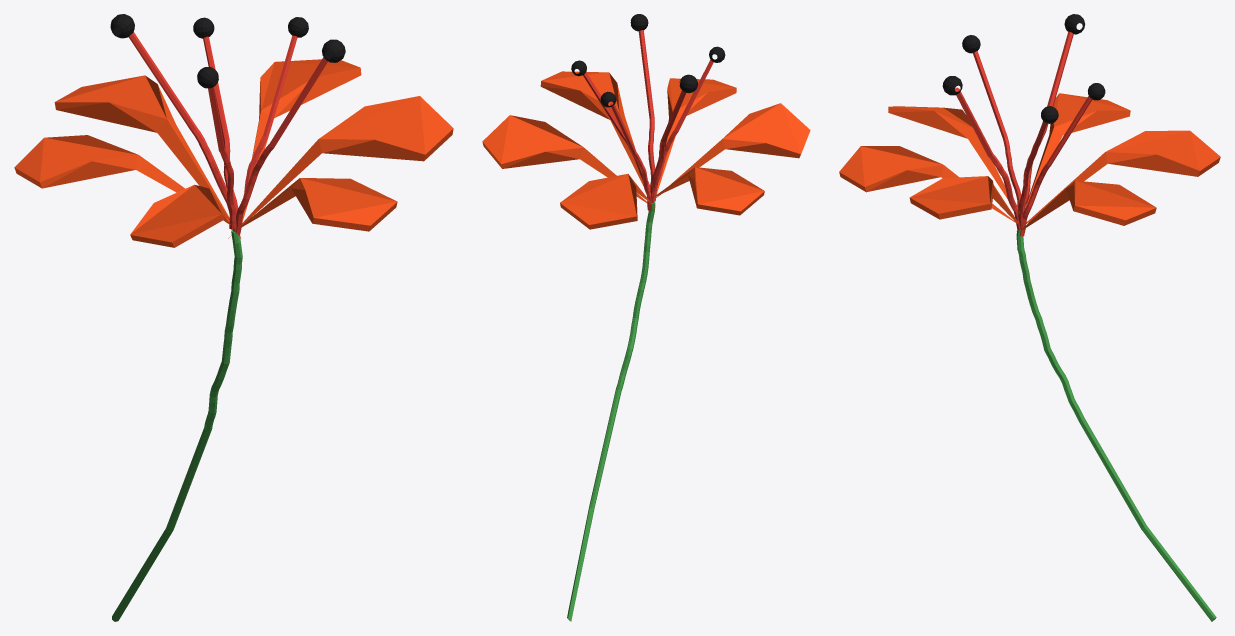
Rendered from plant32.glb.
3 renders of one model, left to right at view 1: azimuth 30°, elevation 25°; view 2: azimuth 150°, elevation 25°; view 3: azimuth 270°, elevation 25°, orthographic. The views are drawn at different scales.
Visible parts, largest first — view 1: group195905935, group804110405, group110160458, group2144015068, group43461017, group1620965756, group862357623, group2016530772, group1581146149, group423755174, group273457477, group723798207; view 2: group862357623, group43461017, group804110405, group110160458, group1620965756, group195905935, group2144015068, group1581146149, group2016530772, group423755174, group723798207, group273457477; view 3: group804110405, group2144015068, group1620965756, group862357623, group195905935, group110160458, group43461017, group1581146149, group423755174, group723798207, group2016530772, group273457477.
Boxes of the visible parts, box(x1,y1,x2,y2) form: group195905935: box(228, 96, 453, 238); group804110405: box(54, 75, 241, 238); group110160458: box(14, 135, 229, 221); group2144015068: box(235, 178, 397, 231); group43461017: box(130, 184, 230, 247); group1620965756: box(112, 229, 242, 621); group862357623: box(242, 59, 361, 221); group2016530772: box(110, 14, 236, 232); group1581146149: box(236, 39, 345, 235); group423755174: box(197, 67, 235, 229); group273457477: box(243, 17, 308, 208); group723798207: box(193, 17, 240, 238); group862357623: box(482, 115, 647, 202); group43461017: box(656, 103, 810, 197); group804110405: box(560, 174, 650, 229); group110160458: box(654, 167, 764, 215); group1620965756: box(567, 202, 655, 621); group195905935: box(540, 71, 654, 208); group2144015068: box(656, 78, 736, 193); group1581146149: box(630, 14, 655, 187); group2016530772: box(650, 74, 697, 202); group423755174: box(651, 46, 725, 201); group723798207: box(600, 91, 651, 210); group273457477: box(571, 60, 650, 190); group804110405: box(1016, 130, 1220, 231); group2144015068: box(839, 146, 1015, 222); group1620965756: box(1016, 230, 1216, 621); group862357623: box(1021, 180, 1156, 229); group195905935: box(909, 176, 1019, 224); group110160458: box(1025, 93, 1130, 208); group43461017: box(888, 106, 1007, 198); group1581146149: box(942, 76, 1021, 230); group423755174: box(962, 35, 1021, 206); group723798207: box(1020, 83, 1105, 236); group2016530772: box(1022, 14, 1085, 212); group273457477: box(1018, 106, 1058, 229).
Size of the model in its own units: 0.3736 by 0.7154 by 0.4298.
